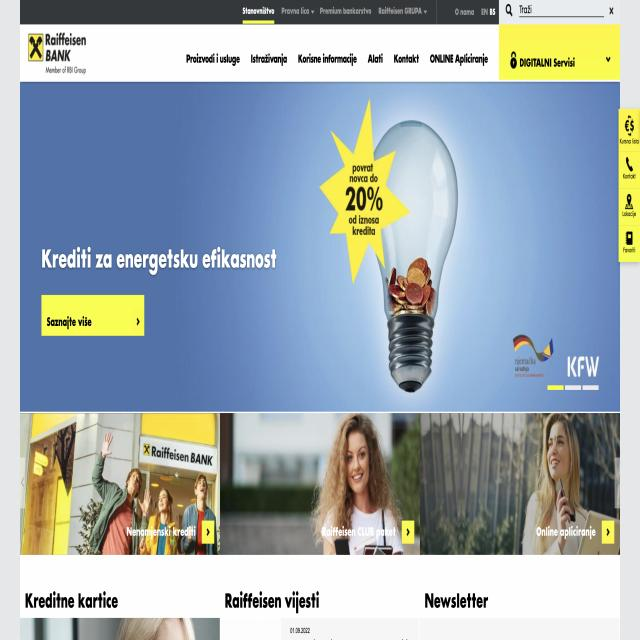Logo: (21, 23, 96, 79)
Navigation: (171, 38, 494, 70)
